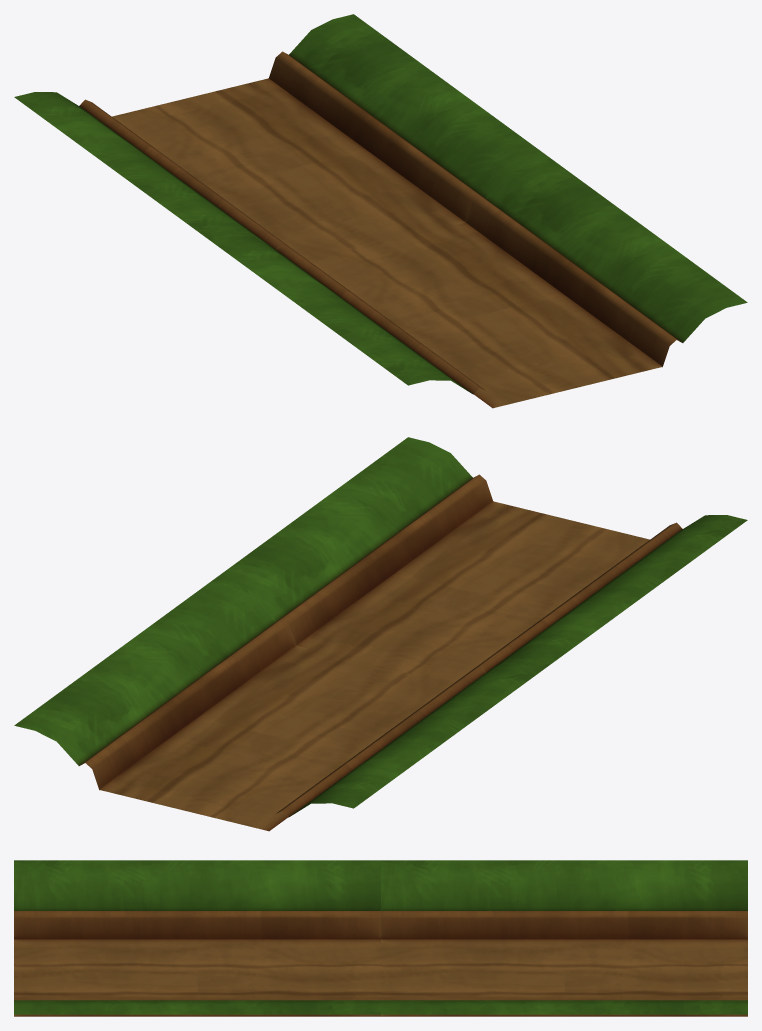
Rendered from TortoiseRescue_Ground.glb.
3 renders of one model, top to bottom at view 1: azimuth 30°, elevation 25°; view 2: azimuth 150°, elevation 25°; view 3: azimuth 270°, elevation 25°, orthographic. The views are drawn at different scales.
Visible parts, largest first — view 1: Ground; view 2: Ground; view 3: Ground.
Boxes of the visible parts, bbox=[...] form: Ground: bbox=[14, 14, 747, 408]; Ground: bbox=[14, 437, 747, 831]; Ground: bbox=[14, 860, 747, 1016].
Bounding box in the file's own units: 9.96 × 1.23 × 20.
Materials: 1 (1 with a texture image).
